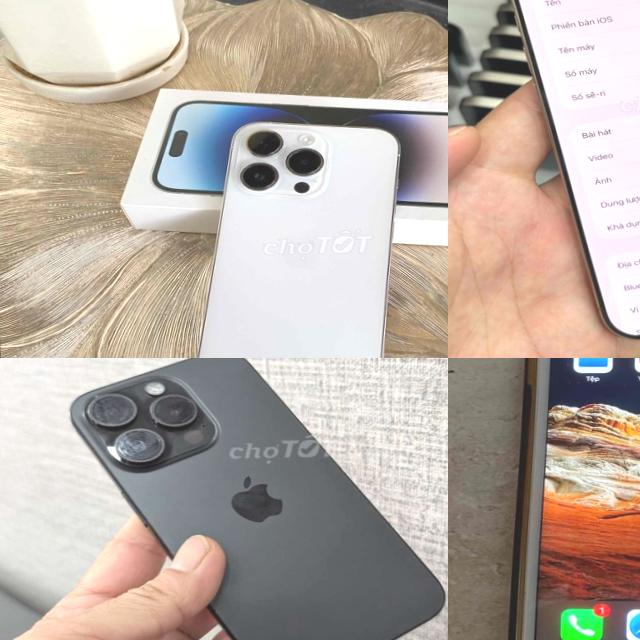gen_14: (198, 117, 401, 358)
gen_15: (36, 358, 448, 640)
gen_16: (512, 0, 640, 337)
gen_6: (509, 358, 640, 640)
